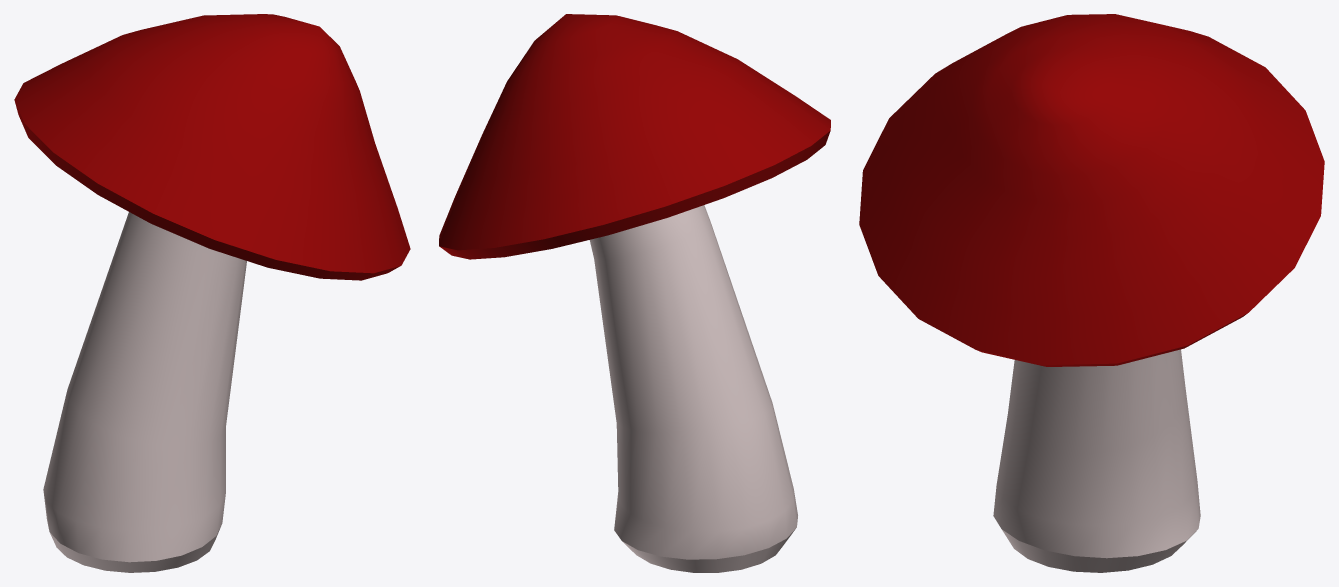
Rendered from mushroom2.fbx.
3 views of the same model, side by side, from view 1: azimuth 30°, elevation 25°; view 2: azimuth 150°, elevation 25°; view 3: azimuth 270°, elevation 25° (orthographic). The views are drawn at different scales.
Parts seen in each view (by area): view 1: pCone3; view 2: pCone3; view 3: pCone3.
Part boxes in pixels (x1=…): pCone3: x1=14, y1=14, x2=410, y2=572; pCone3: x1=439, y1=14, x2=830, y2=572; pCone3: x1=859, y1=14, x2=1324, y2=572.
Bounding box in the file's own units: 1.7 × 2.36 × 1.82.
